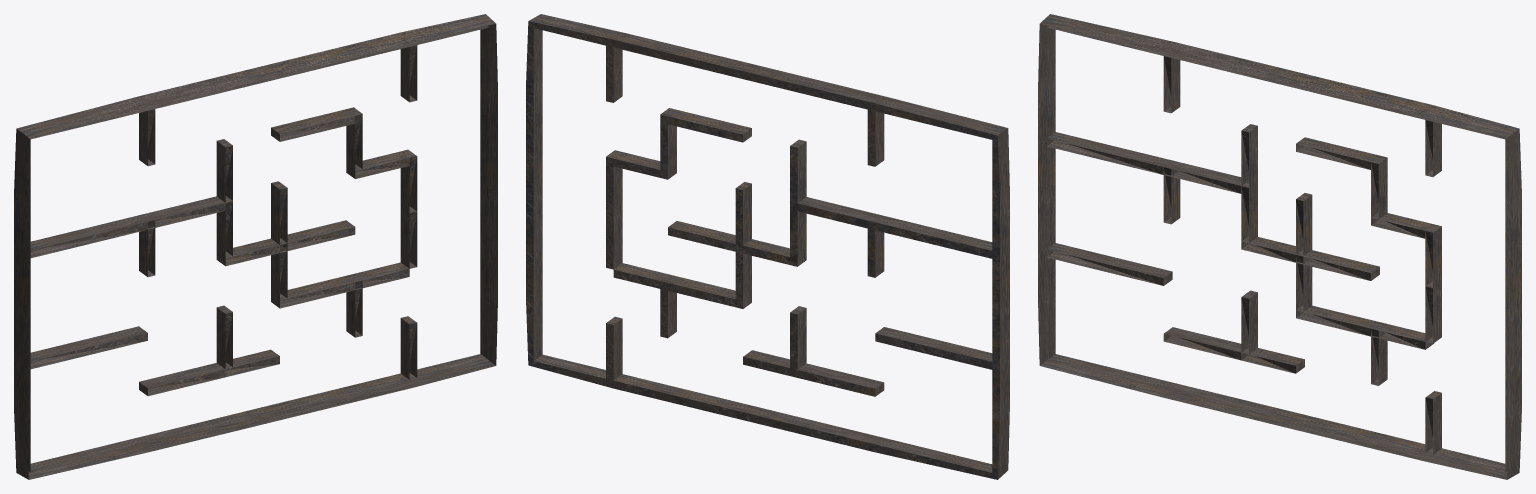
The model's file is walls.FBX.
3 views of the same model, side by side, from view 1: azimuth 30°, elevation 25°; view 2: azimuth 150°, elevation 25°; view 3: azimuth 330°, elevation 25° (orthographic).
Parts seen in each view (by area): view 1: walls; view 2: walls; view 3: walls.
Part boxes in pixels (box(x1,y1,x2,y2)): walls: box(14, 14, 497, 479); walls: box(526, 14, 1009, 479); walls: box(1038, 14, 1521, 479).
Bounding box in the file's own units: 308 × 217 × 13.61.
Materials: 1 (1 with a texture image).
